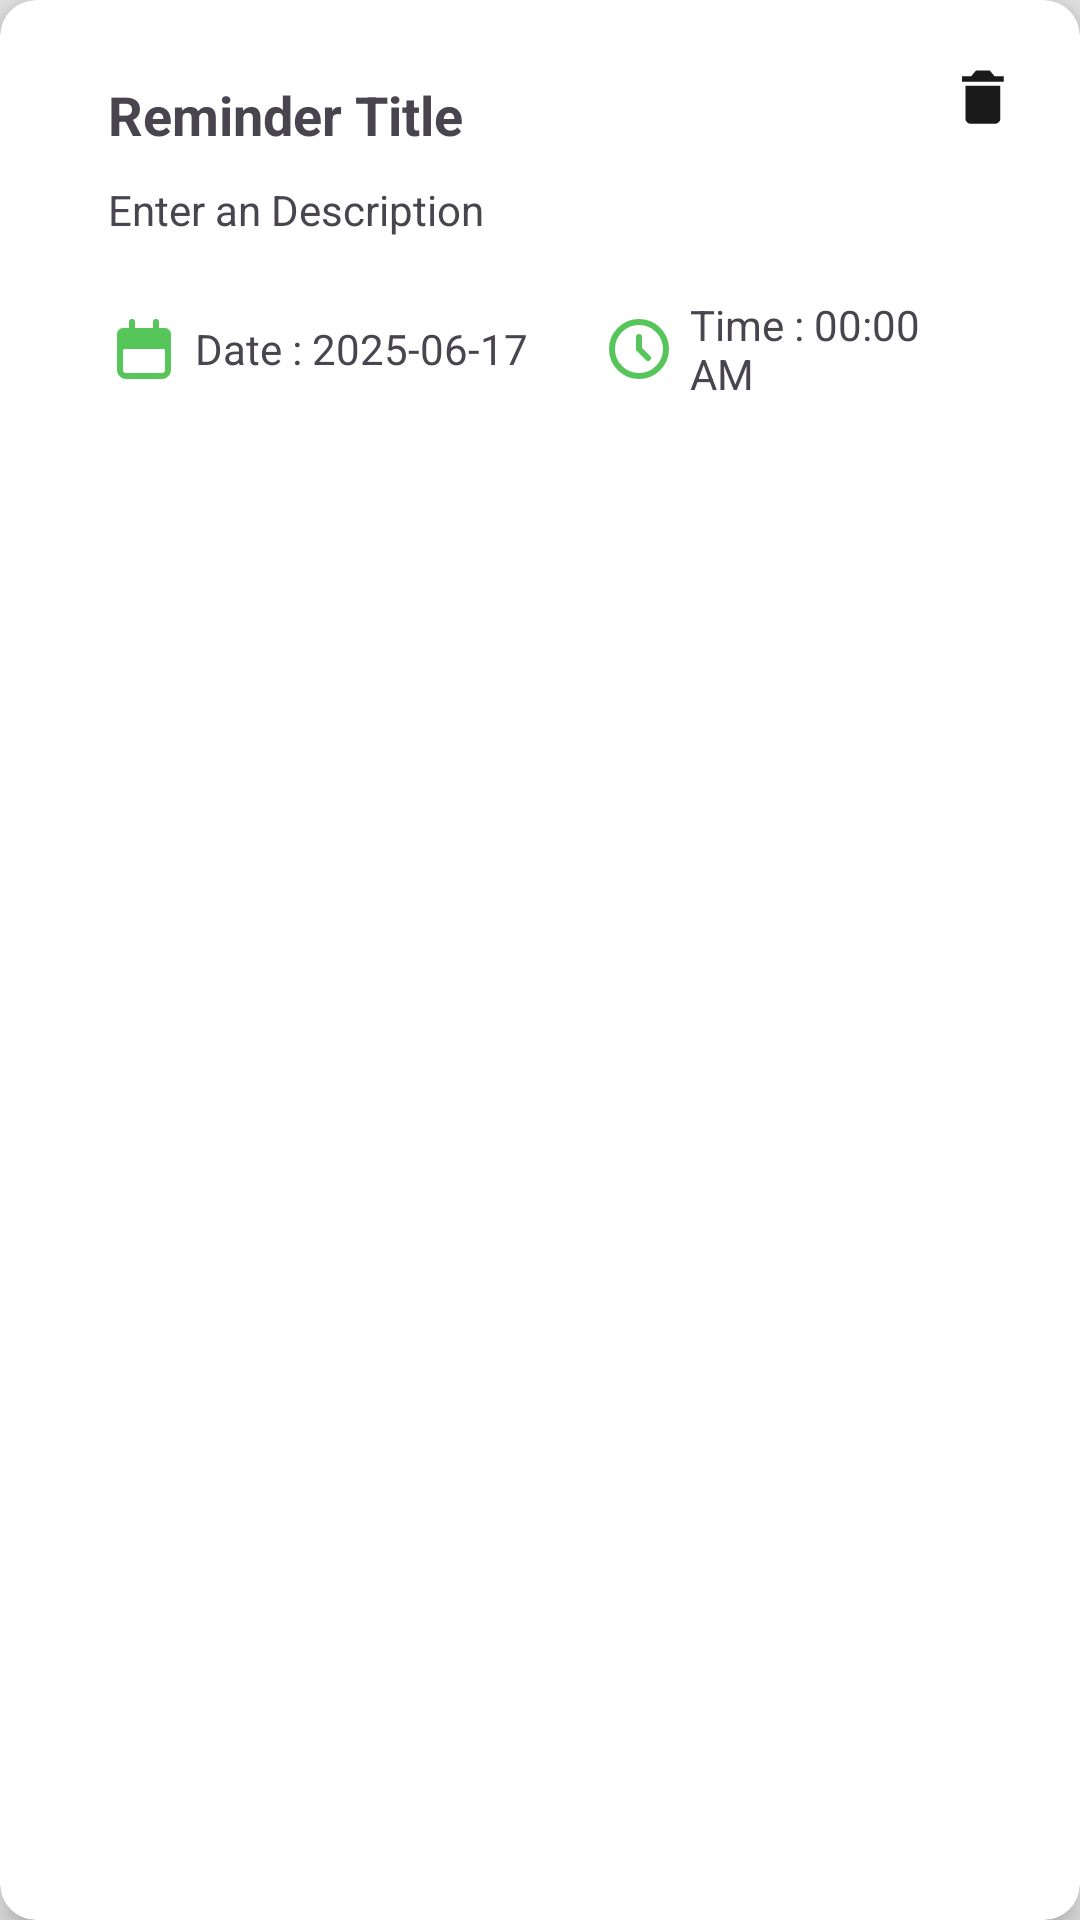

Named icons in this screenshot (1080 x 1920) and their centers, (x,y):
date manual add: (144,349)
Delete Reminder: (983,97)
